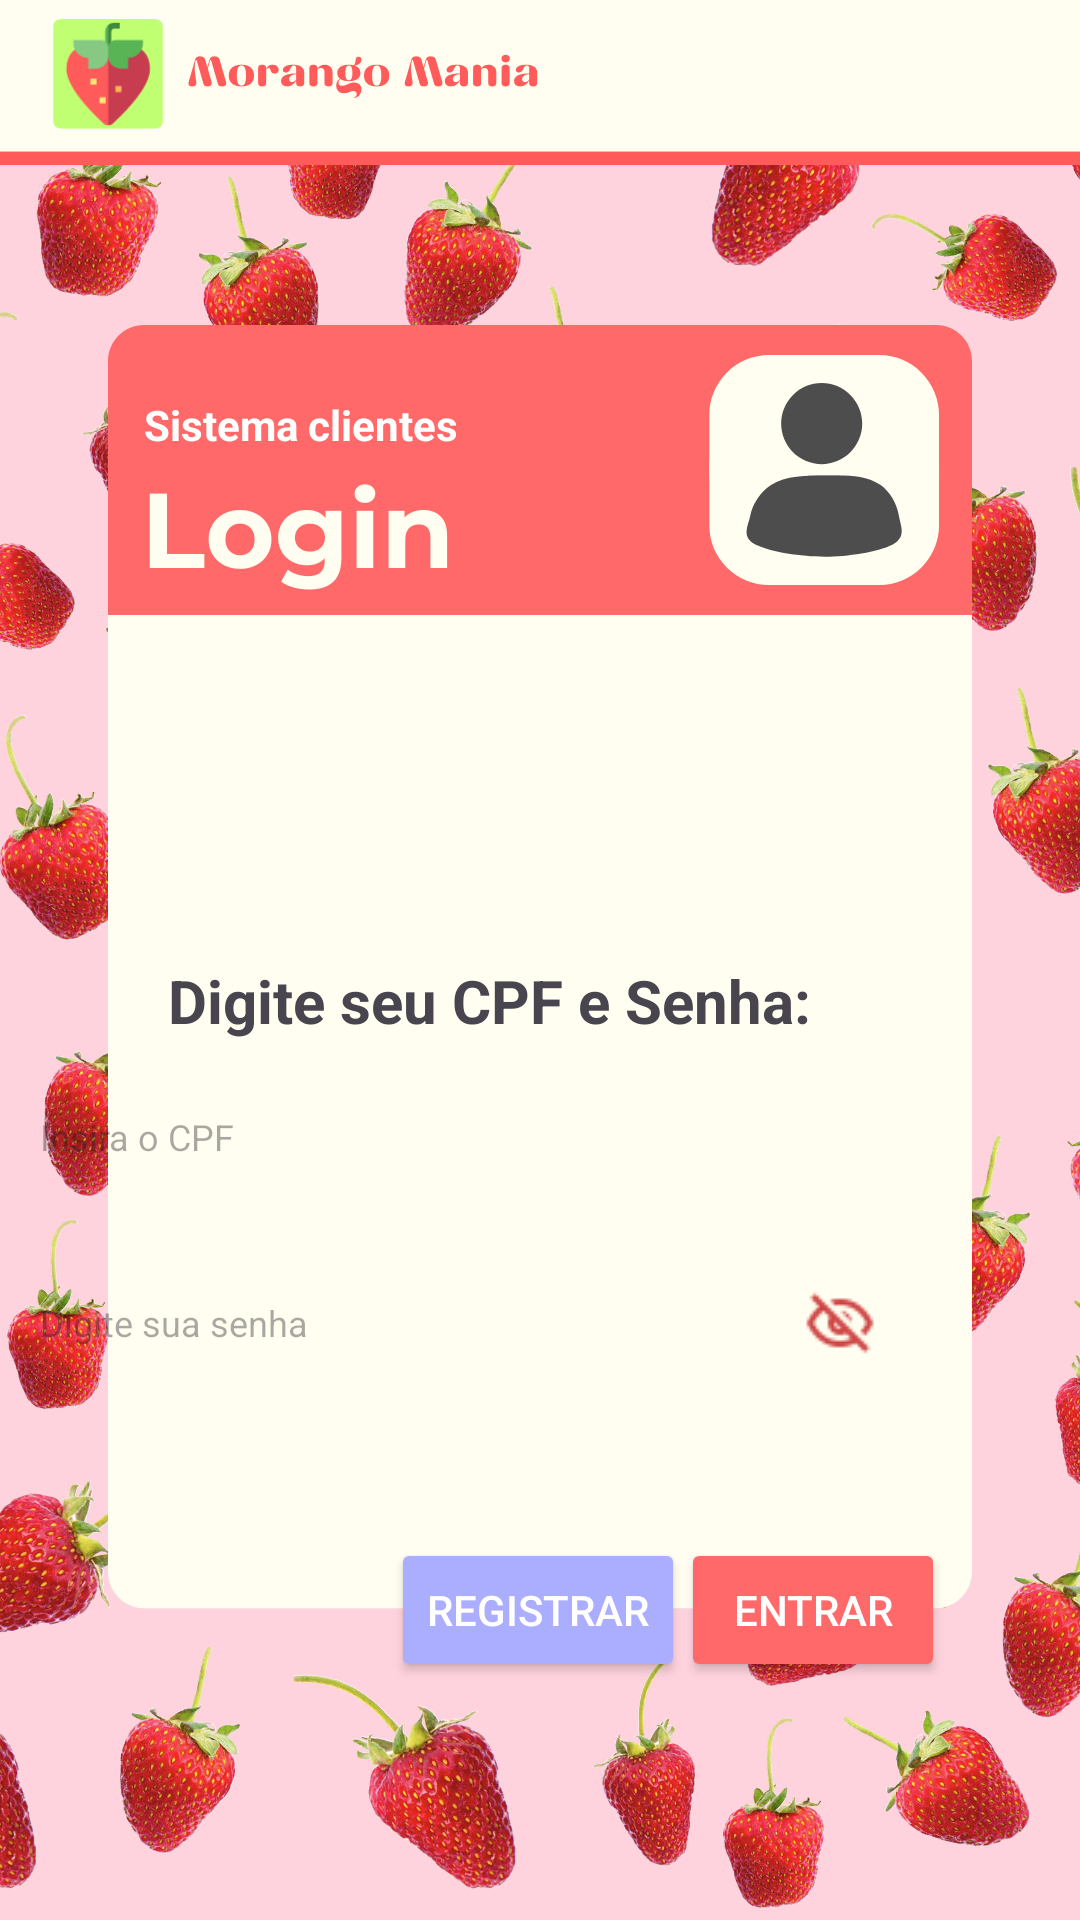

Named icons in this screenshot (1080px×1920px) and their bounding boxes, bbox=(x1, y1, x2, y2):
invisivel: bbox=(806, 1292, 874, 1354)
